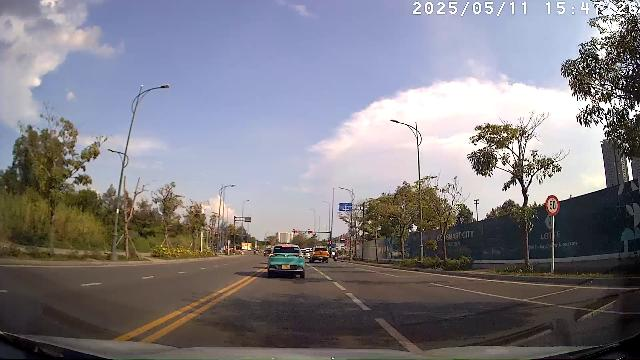127-toc-do-toi-da-50: (546, 194, 560, 216)
